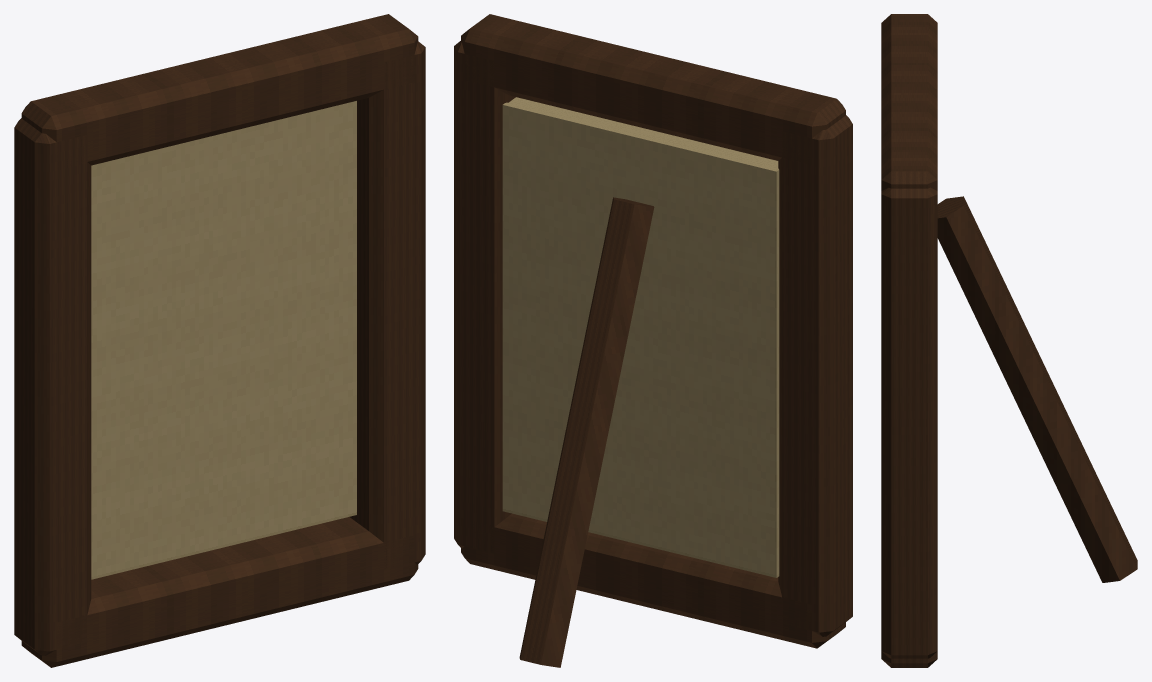
The model's file is level_loose_frame.glb.
3 renders of one model, left to right at view 1: azimuth 30°, elevation 25°; view 2: azimuth 150°, elevation 25°; view 3: azimuth 270°, elevation 25°, orthographic. The views are drawn at different scales.
Parts seen in each view (by area): view 1: level_loose_frame; view 2: level_loose_frame; view 3: level_loose_frame.
Boxes of the visible parts, x1=… form: level_loose_frame: x1=14, y1=14, x2=425, y2=667; level_loose_frame: x1=454, y1=14, x2=852, y2=667; level_loose_frame: x1=881, y1=14, x2=1137, y2=667.
Size of the model in its own units: 0.166 by 0.224 by 0.1047.
Materials: 2 (2 with a texture image).
